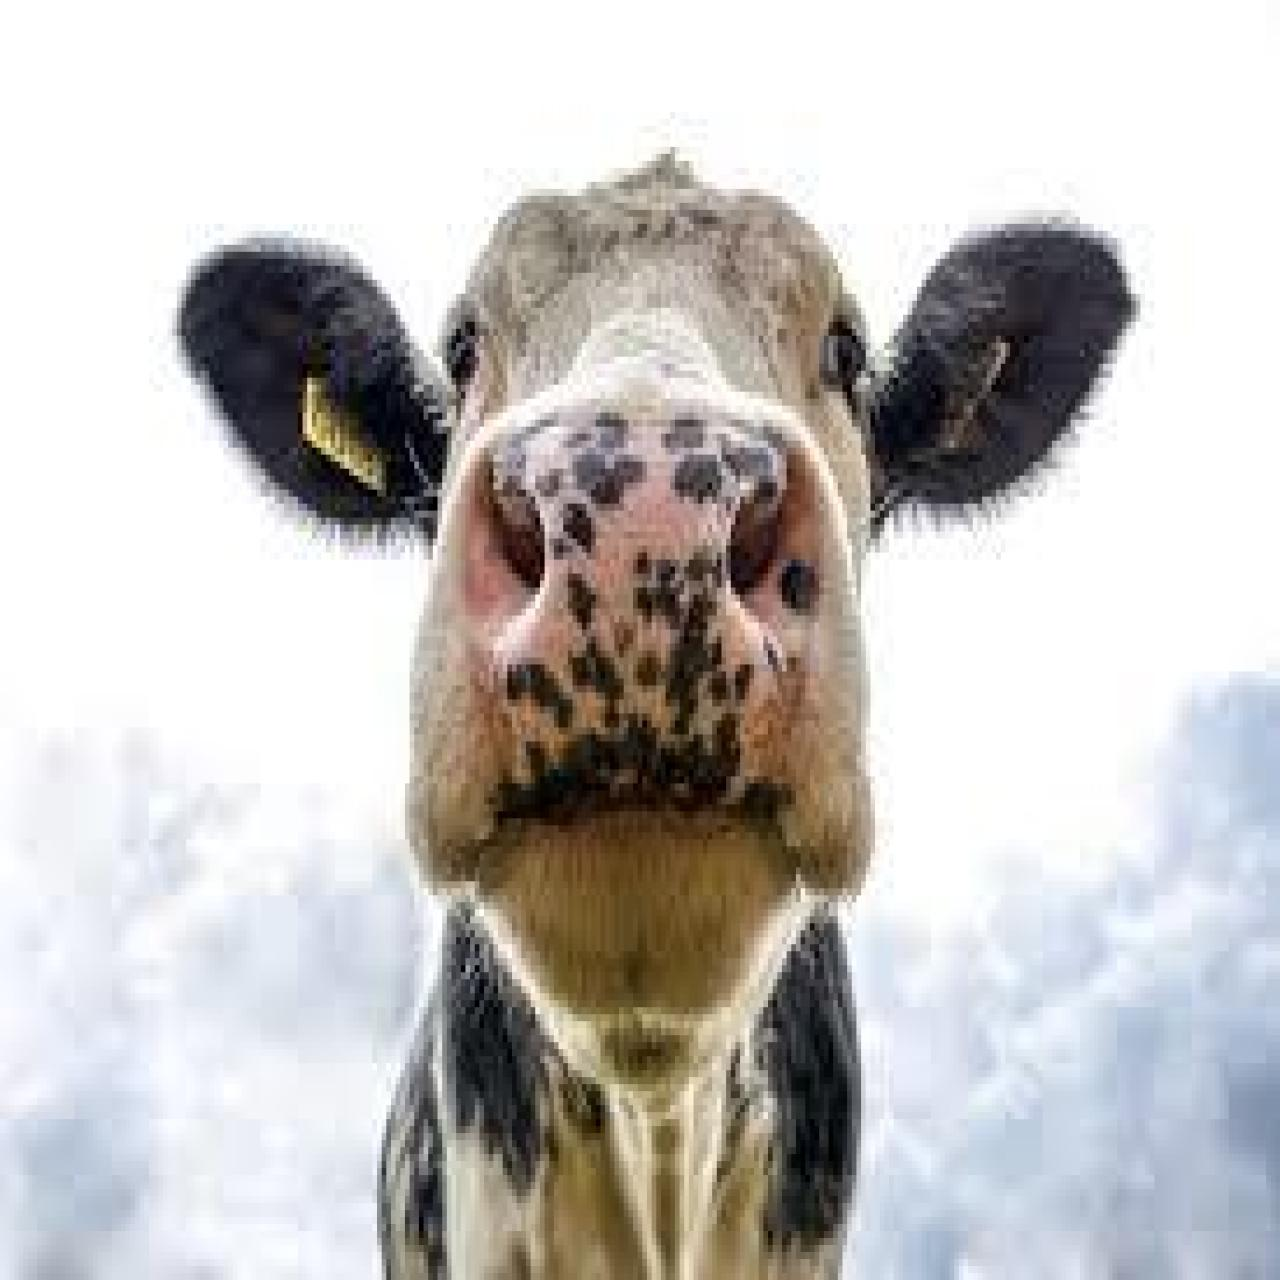cow: (175, 150, 1138, 1276)
